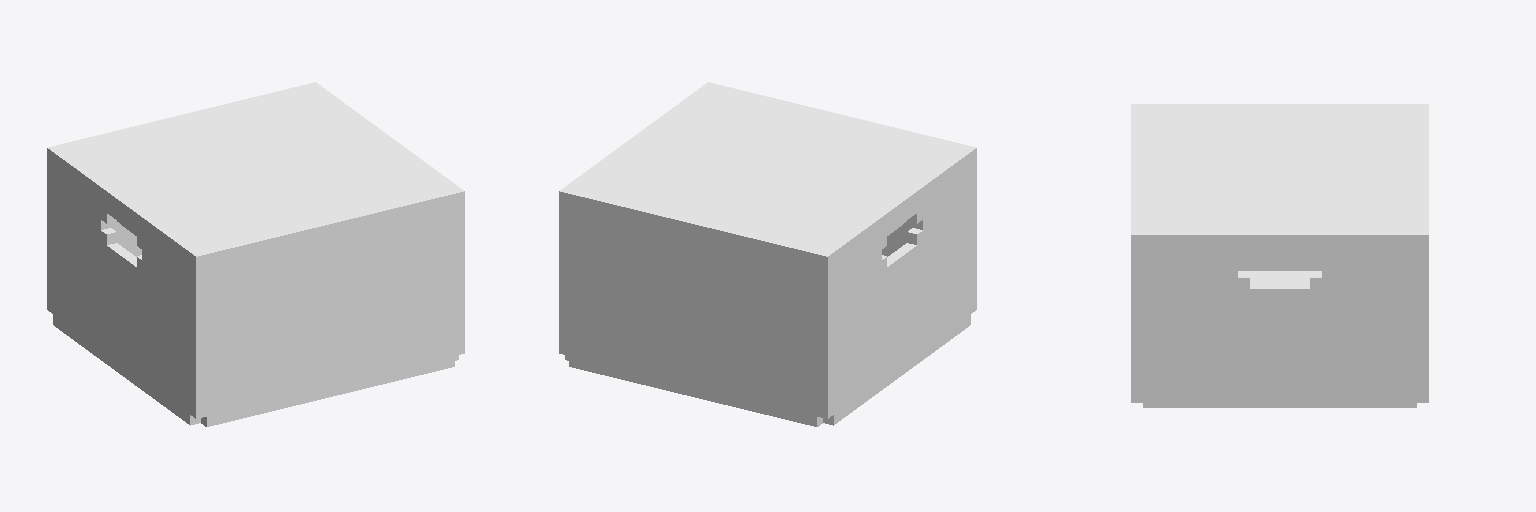
The model's file is Prosecution_Box.obj.
3 renders of one model, left to right at view 1: azimuth 30°, elevation 25°; view 2: azimuth 150°, elevation 25°; view 3: azimuth 270°, elevation 25°, orthographic.
Parts seen in each view (by area): view 1: object 1; view 2: object 1; view 3: object 1.
Boxes of the visible parts, x1=… form: object 1: x1=47, y1=82, x2=464, y2=426; object 1: x1=559, y1=82, x2=976, y2=426; object 1: x1=1131, y1=104, x2=1428, y2=407.
Bounding box in the file's own units: 2.6 × 1.6 × 2.5.